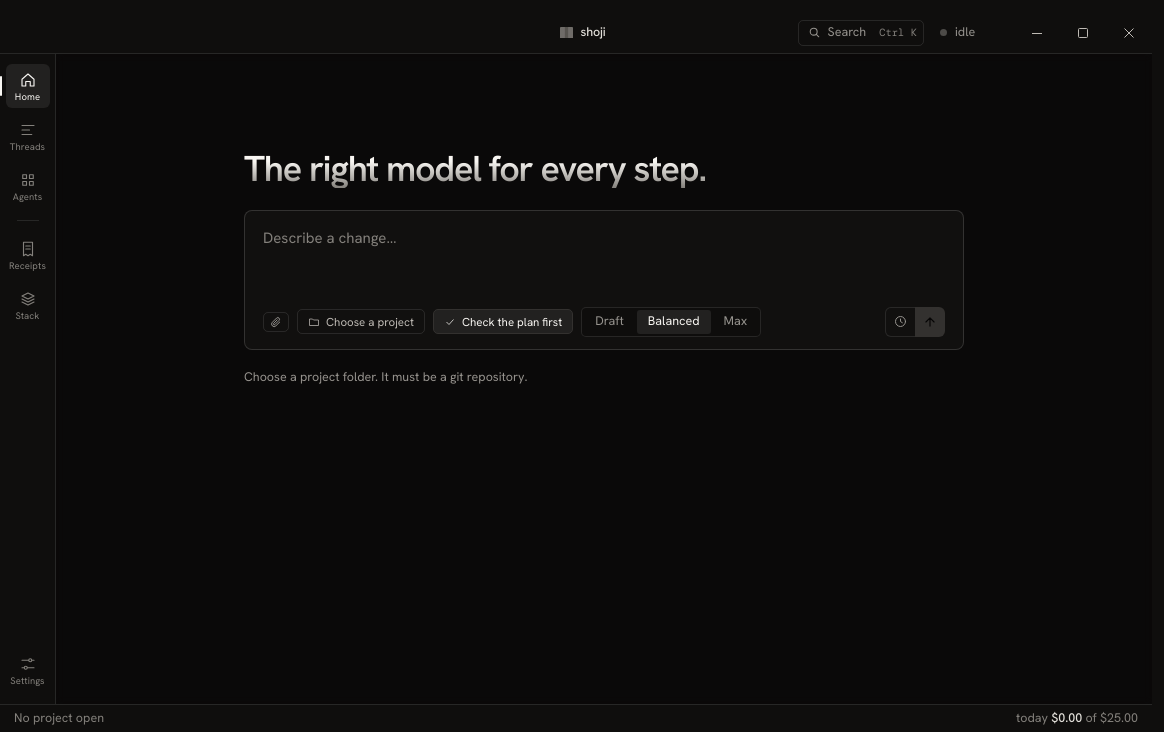
Test: Agents › says what shows there before anything runs
Click the button "Agents" at (28, 186), box [6,164,50,208]
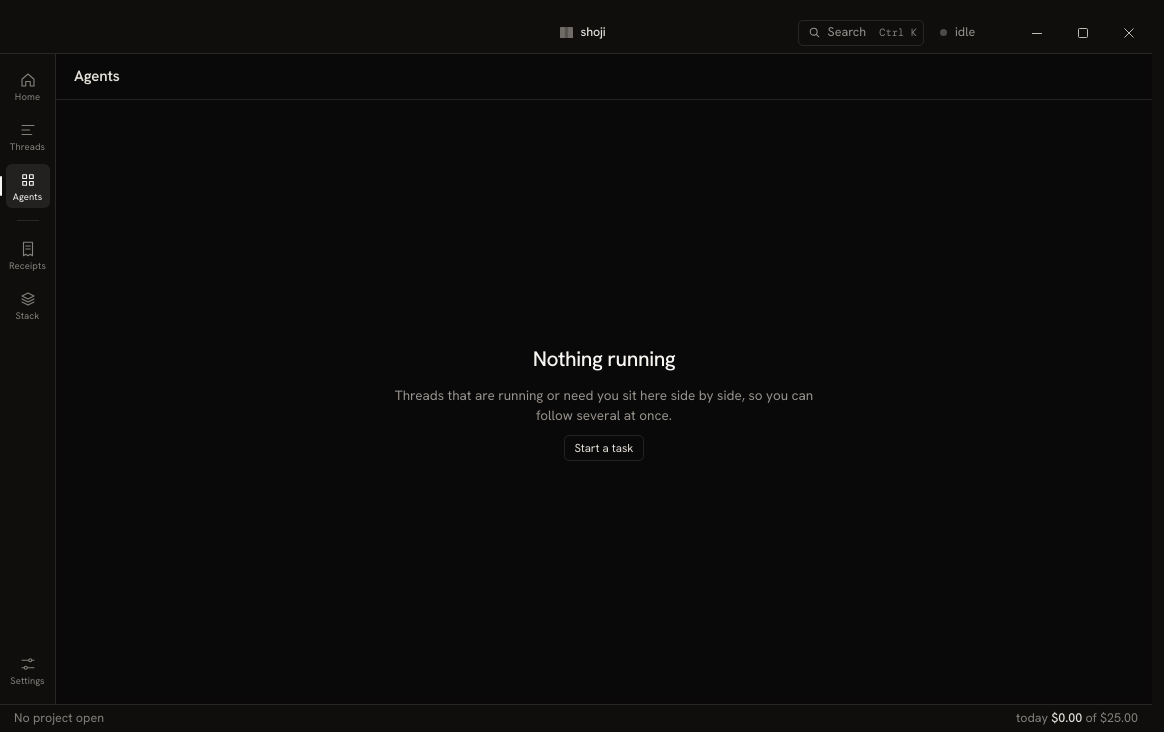
Expected: the heading "Nothing running" is shown, [533,343,675,375]
